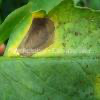Tomato Early blight leaf: (4, 6, 99, 64)
